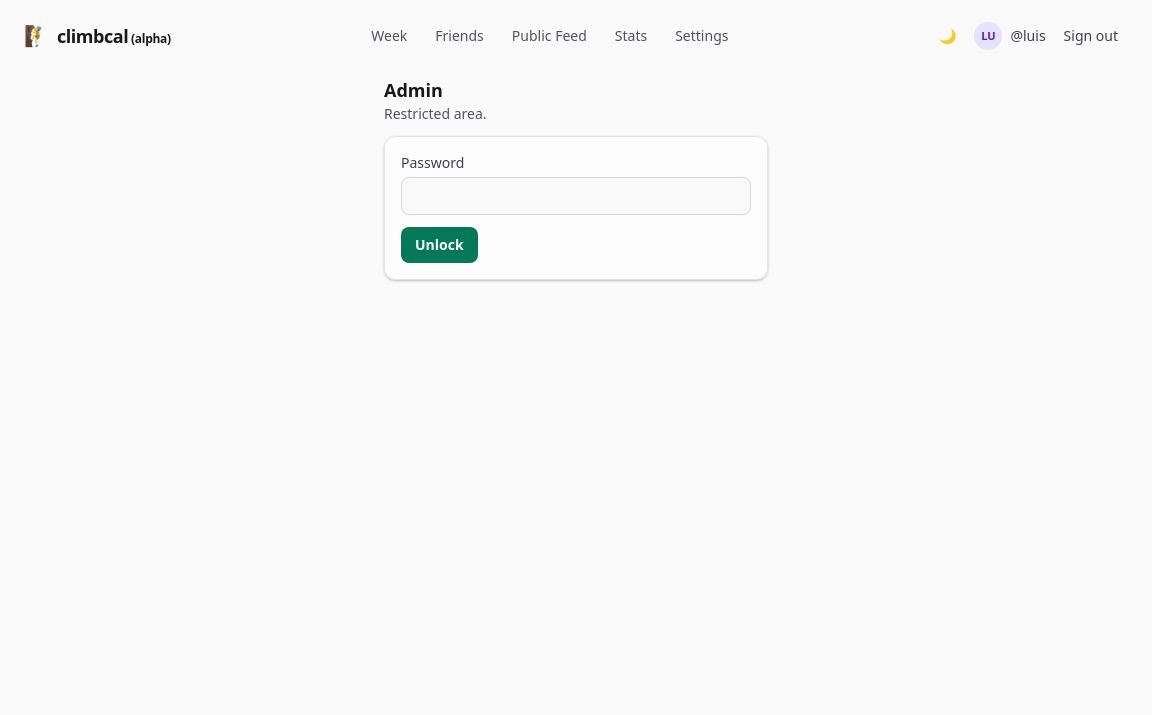
Test: <Admin /> › unlocks with the password and reports the numbers
Type "ilikepie" into the password field labelled "Password" at (576, 196), box [401,177,751,215]
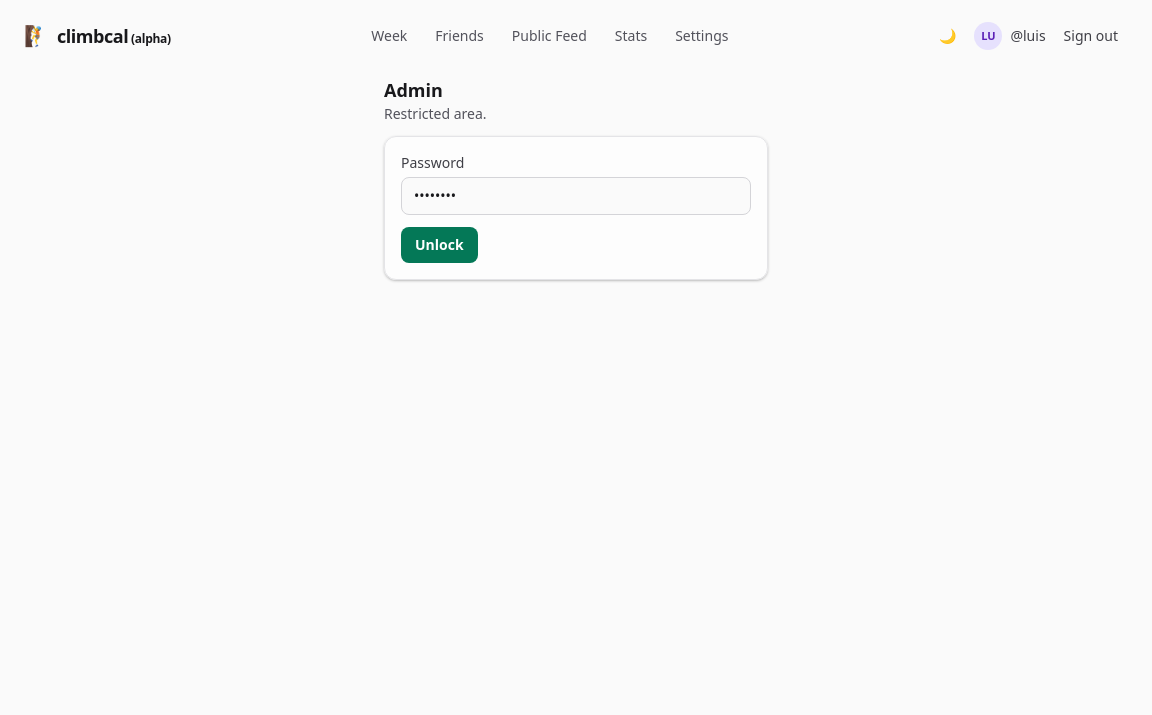
Click the button "Unlock" at (439, 245), box [401,227,478,263]
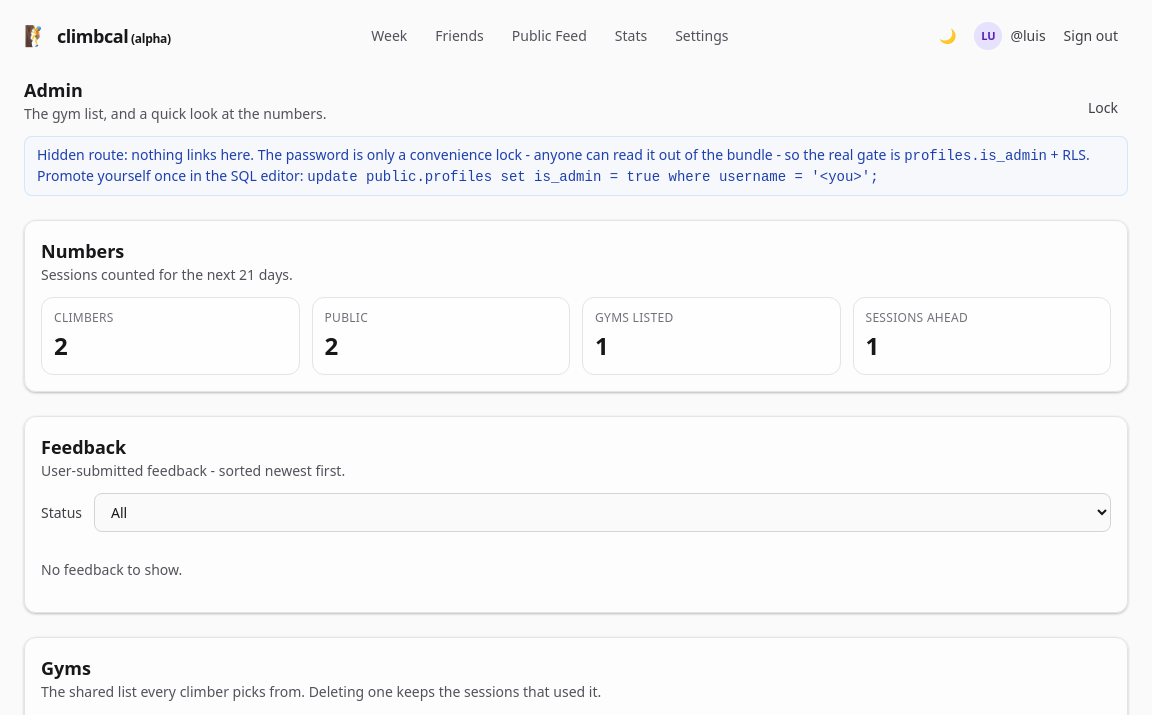
Expected: the heading "Numbers" is shown, [41,239,124,263]
